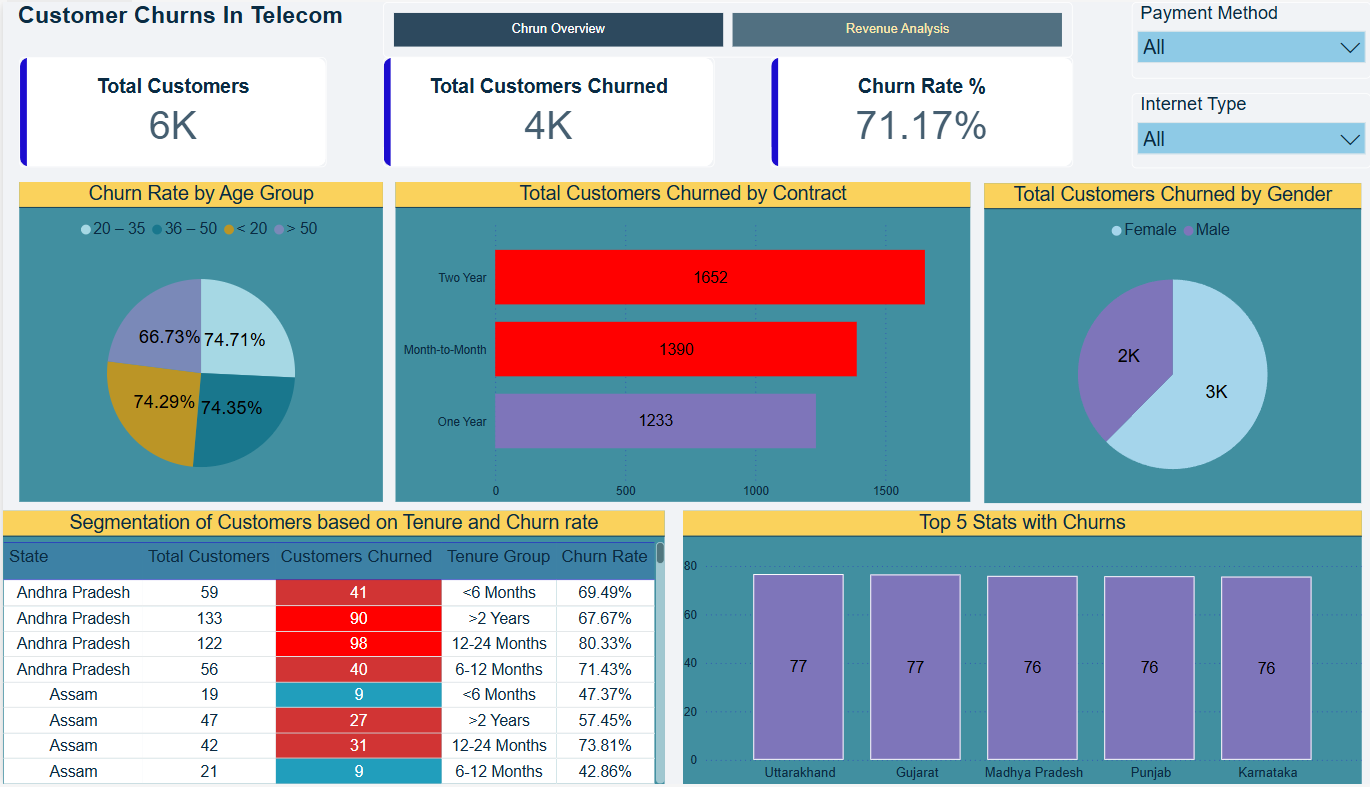

The page's visual inventory and layout, read from the dashboard file:
{"tool":"powerbi","page":{"name":"Chrun Overview","canvas":[1400,800],"ordinal":0},"visuals":[{"type":"barChart","fields":{"Category":["Dim_ContractType.Contract"],"Y":["Fact_Customer_Churned.Total_Customers_Churned"]},"box":[401.7,184.2,588,326.8],"z":0},{"type":"cardVisual","fields":{"Data":["Fact_Customer_Churned.Total_Customers_Churned"]},"box":[388.7,56.5,338.9,113],"z":4000},{"type":"cardVisual","fields":{"Data":["Fact_Customer_Churned.Total_Customers"]},"box":[16.1,56.5,314.7,113],"z":5000},{"type":"cardVisual","fields":{"Data":["Fact_Customer_Churned.Churned %"]},"box":[785.5,56.5,309.3,113],"z":6000},{"type":"pieChart","title":"Churn Rate by Age Group ","fields":{"Y":["Fact_Customer_Churned.Churned %"],"Category":["Fact_Customer_Churned.Age Group "]},"box":[16.1,184.2,371.9,326.8],"z":7000},{"type":"pieChart","fields":{"Y":["Fact_Customer_Churned.Total_Customers_Churned"],"Category":["Dim_Gender.Gender"]},"box":[1003.4,185.6,385.6,326.8],"z":8000},{"type":"pageNavigator","box":[388.4,0,705.8,56.5],"z":8001},{"type":"tableEx","title":"Segmentation of Customers based on Tenure and Churn rate","fields":{"Values":["Dim_State.State","Fact_Customer_Churned.Total_Customers","Fact_Customer_Churned.Total_Customers_Churned","Fact_Customer_Churned.Tenure Group","Fact_Customer_Churned.Churned %"]},"box":[0,520.3,676.8,279.7],"z":8002},{"type":"slicer","fields":{"Values":["Dim_InternetType.Internet_Type"]},"box":[1155.4,92.8,244.8,76.7],"z":8003},{"type":"slicer","fields":{"Values":["Dim_PaymentMethod.Payment_Method"]},"box":[1155.4,0,244.8,78],"z":8004},{"type":"clusteredColumnChart","title":"Top 5 Stats with Churns","fields":{"Category":["Top 5 States with Churns.State"],"Y":["Sum(Top 5 States with Churns.Churn Rate)"]},"box":[695.7,520.3,694.2,279.7],"z":8005},{"type":"textbox","box":[15.9,0,346.4,47.8],"z":8006}]}

Visuals, with their boxes in screenshot pixels (x1, y1, x2, y2), scaled from the page's 1400x800 canvas onto the 1370x787 screenshot:
barChart - Dim_ContractType.Contract x Fact_Customer_Churned.Total_Customers_Churned: (393, 181, 968, 503)
cardVisual - Fact_Customer_Churned.Total_Customers_Churned: (380, 56, 712, 167)
cardVisual - Fact_Customer_Churned.Total_Customers: (16, 56, 324, 167)
cardVisual - Fact_Customer_Churned.Churned %: (769, 56, 1071, 167)
"Churn Rate by Age Group " pieChart: (16, 181, 380, 503)
pieChart - Fact_Customer_Churned.Total_Customers_Churned x Dim_Gender.Gender: (982, 183, 1359, 504)
pageNavigator: (380, 0, 1071, 56)
"Segmentation of Customers based on Tenure and Churn rate" tableEx: (0, 512, 662, 786)
slicer - Dim_InternetType.Internet_Type: (1131, 91, 1369, 167)
slicer - Dim_PaymentMethod.Payment_Method: (1131, 0, 1369, 77)
"Top 5 Stats with Churns" clusteredColumnChart: (681, 512, 1360, 786)
textbox: (16, 0, 355, 47)
